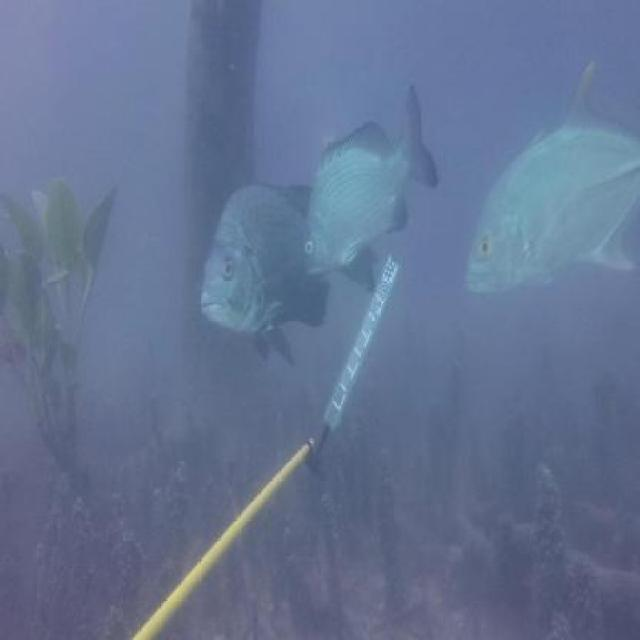Caranx: (463, 59, 640, 303)
acanthopagrus_palmaris: (197, 171, 380, 366), (302, 84, 440, 299)
